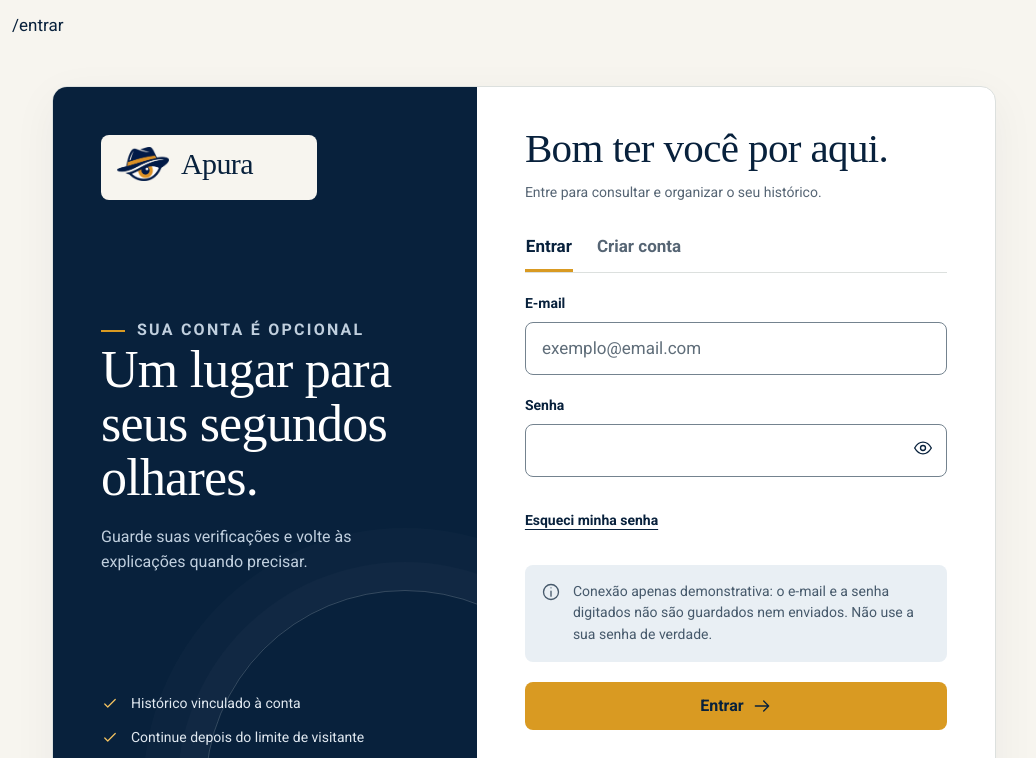
Test case: entrar › falha ao entrar: mensagem única, que não revela se a conta existe, e o botão volta a funcionar
The width and height of the screenshot is (1036, 758).
Type "maria@exemplo.com" into the field labelled "E-mail" at (736, 348), box [525,322,947,375]
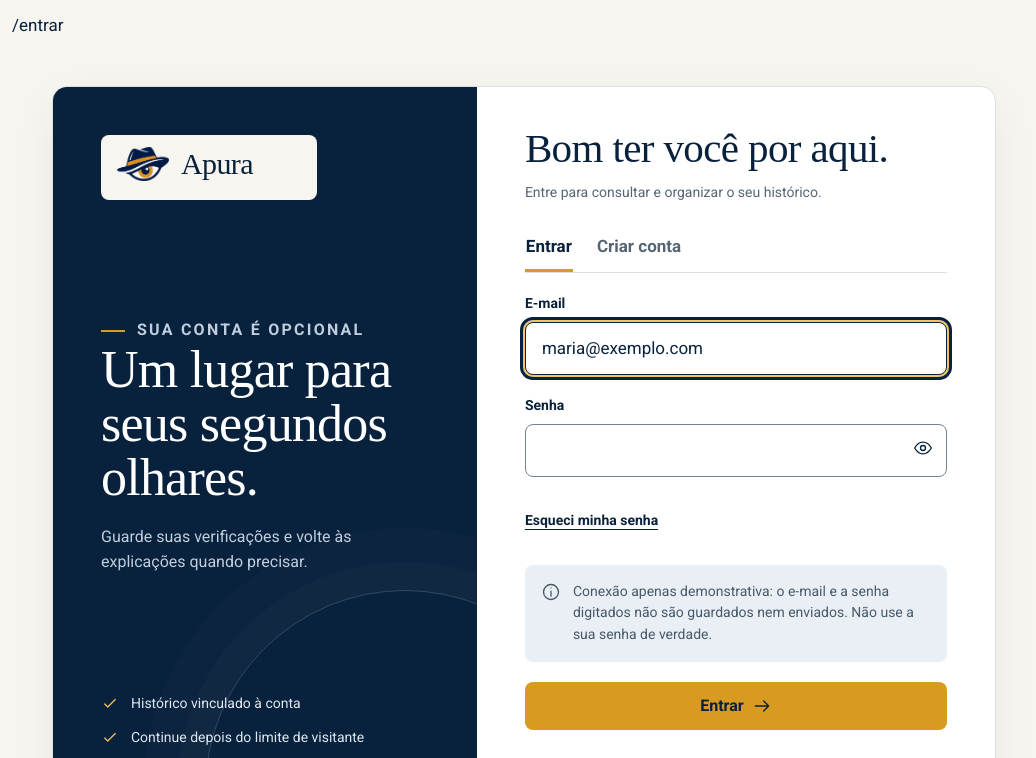
Type "uma-senha-longa-1" into the password field labelled "Senha" at (736, 451), box [525,424,947,477]
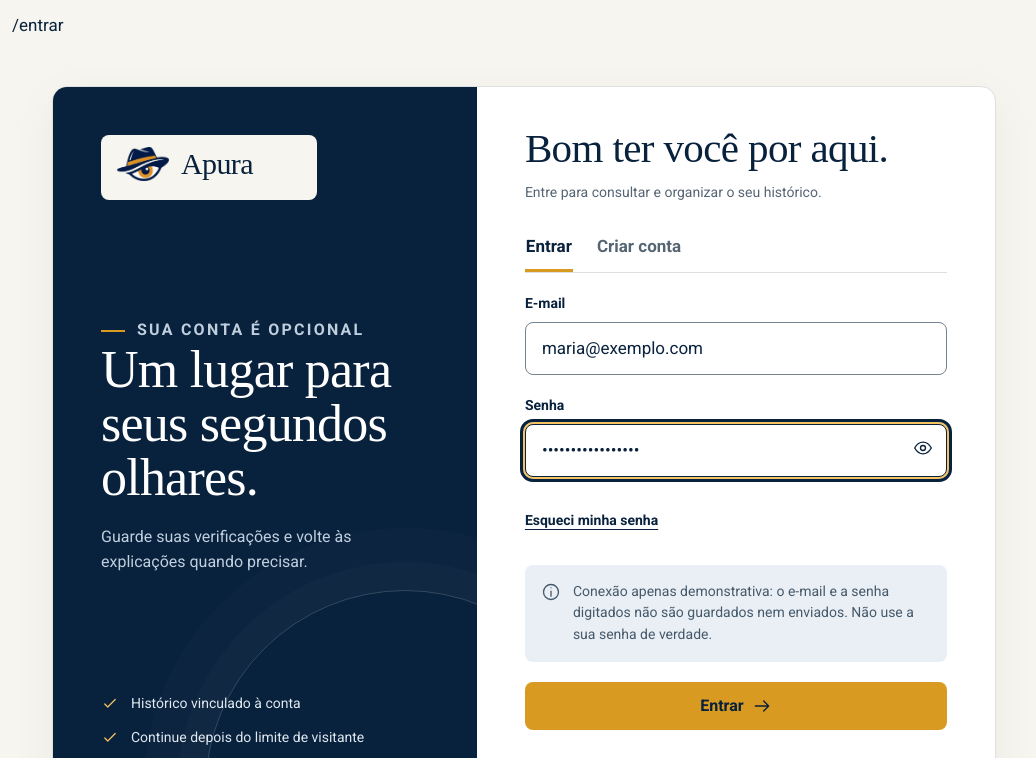
Click the button "Entrar" at (736, 706), box [525,682,947,730]
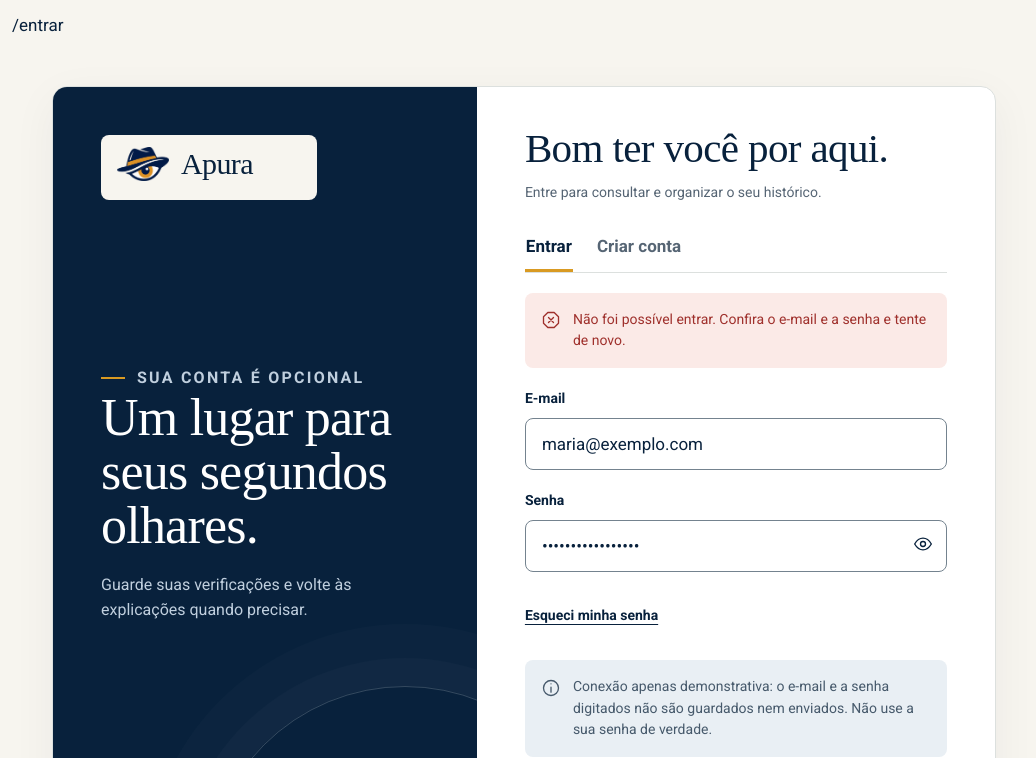
Expected: the text with test id "onde" reads "/entrar", [12,15,63,35]
Now the text "Não foi possível entrar. Confira o e-mail e a senha e tente de novo." is shown, box [525,293,947,368]
